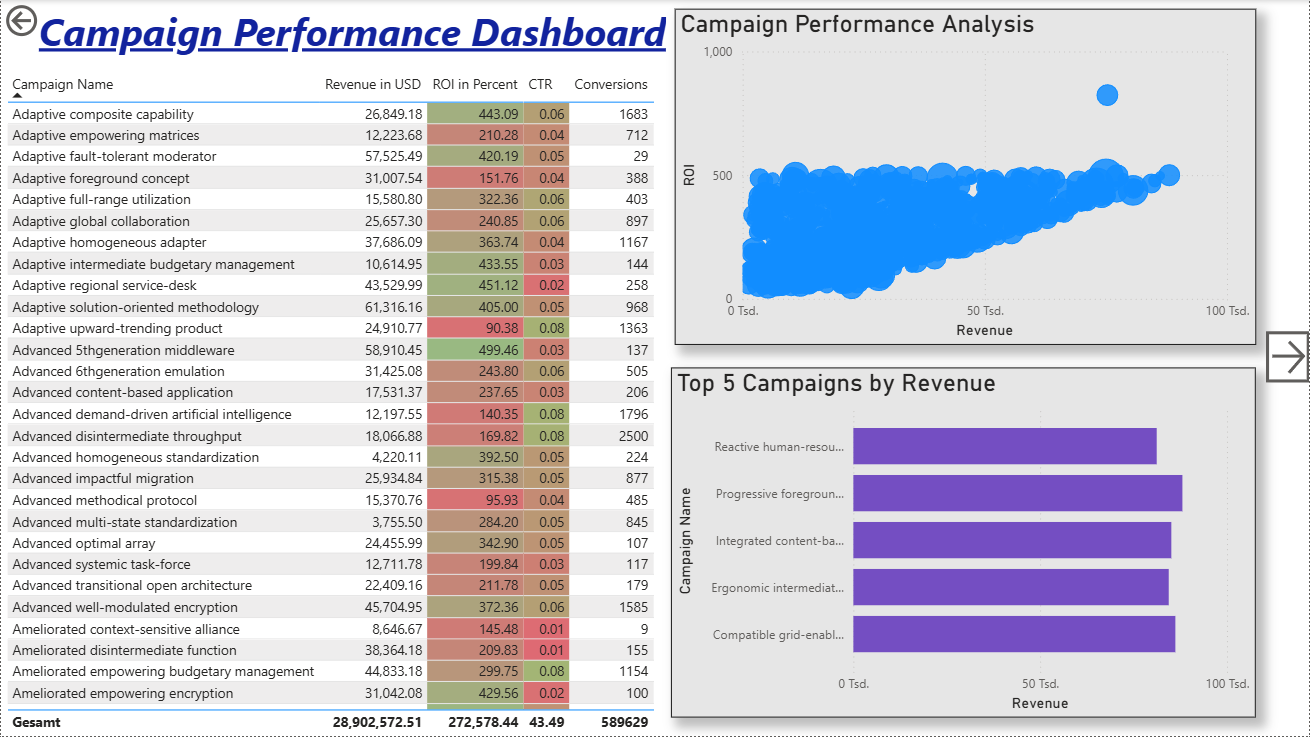

The dashboard page shown, as its layout file describes it:
{"tool":"powerbi","page":{"name":"Campaign Performance","canvas":[1280,720],"ordinal":1},"visuals":[{"type":"textbox","box":[9.8,0,645.7,66],"z":0},{"type":"tableEx","fields":{"Values":["Marketing Campaign Data.Campaign_Name","Sum(Marketing Campaign Data.Revenue_USD)","Sum(Marketing Campaign Data.ROI_Percent)","Sum(Marketing Campaign Data.CTR)","Sum(Marketing Campaign Data.Conversions)"]},"box":[0,66,679.9,654.2],"z":1000},{"type":"clusteredBarChart","title":"Top 5 Campaigns by Revenue","fields":{"Category":["Marketing Campaign Data.Campaign_Name","Marketing Campaign Data.Conversions","Marketing Campaign Data.ROI_Percent"],"Y":["Sum(Marketing Campaign Data.Revenue_USD)"]},"box":[655.4,359.5,572.3,342.4],"z":2000},{"type":"scatterChart","title":"Campaign Performance Analysis","fields":{"X":["Sum(Marketing Campaign Data.Revenue_USD)"],"Y":["Sum(Marketing Campaign Data.ROI_Percent)"],"Size":["Sum(Marketing Campaign Data.Conversions)"],"Category":["Marketing Campaign Data.Campaign_Name"]},"box":[659.1,8.6,568.6,328.9],"z":3000},{"type":"actionButton","box":[0,0,46.5,40.4],"z":4000},{"type":"actionButton","box":[1237.5,324.1,42.8,50.1],"z":5000}]}

Visuals, with their boxes in screenshot pixels (x1, y1, x2, y2), scaled from the page's 1280x720 canvas onto the 1310x737 screenshot:
textbox: region(10, 0, 671, 68)
tableEx - Marketing Campaign Data.Campaign_Name x Sum(Marketing Campaign Data.Revenue_USD): region(0, 68, 696, 736)
"Top 5 Campaigns by Revenue" clusteredBarChart: region(671, 368, 1256, 718)
"Campaign Performance Analysis" scatterChart: region(675, 9, 1256, 345)
actionButton: region(0, 0, 48, 41)
actionButton: region(1267, 332, 1309, 383)
